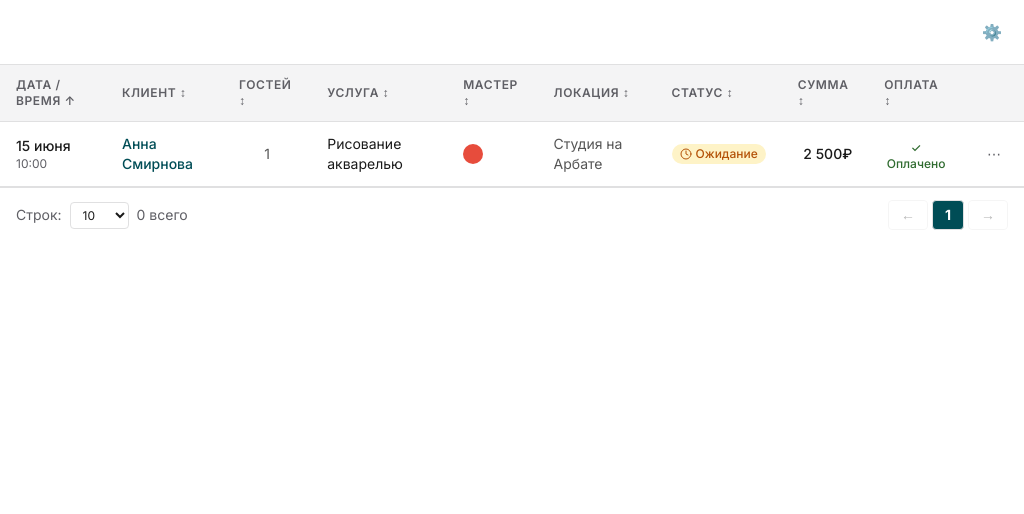
Test case: RecordsTable › detail panel shows client/service/master/location from the row fields
This screenshot has width=1024, height=514.
What coordinates should you click on to do the following:
click the text "Анна Смирнова"
I would click on:
 (512, 154)
Its box is x1=0 y1=122 x2=1023 y2=186.
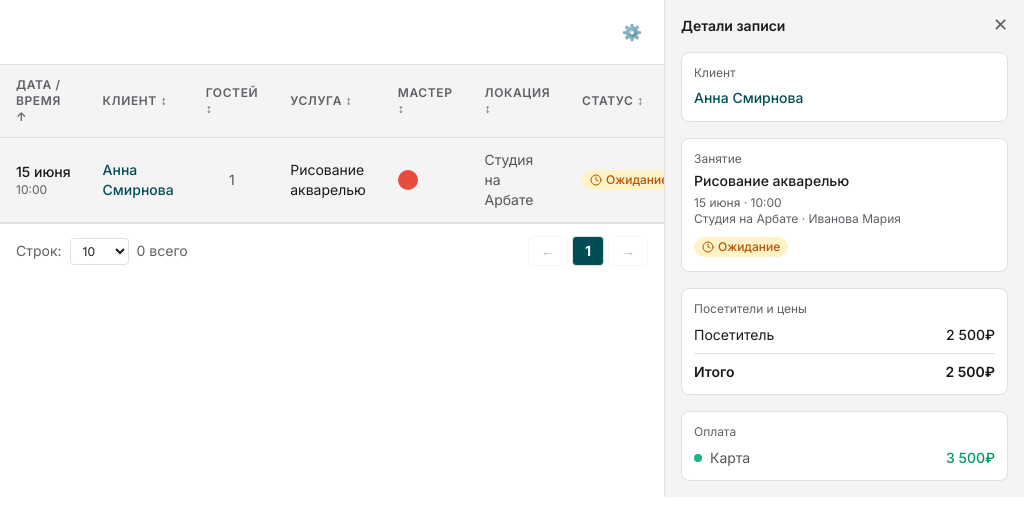
Check: the heading "Детали записи" is shown, box x1=681 y1=16 x2=785 y2=36
Check: the text "Иванова Мария" is shown, box x1=808 y1=211 x2=901 y2=226
